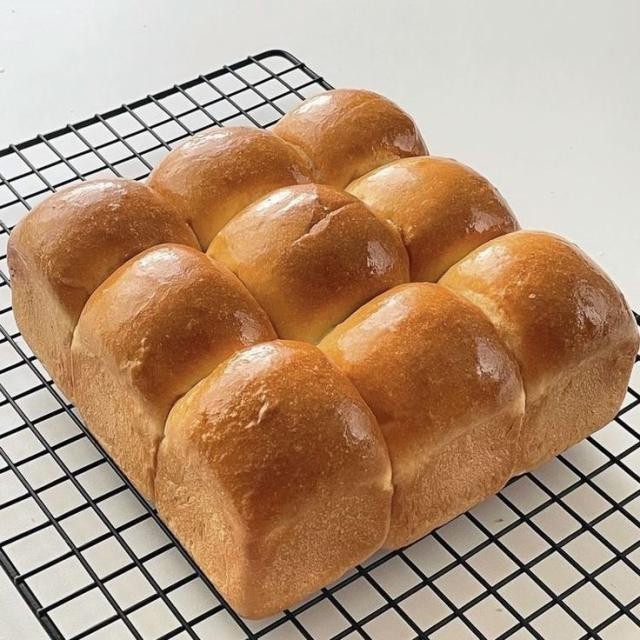bread: (9, 90, 639, 617), (156, 340, 392, 617), (320, 283, 524, 547), (72, 245, 274, 499), (440, 232, 639, 472), (8, 179, 197, 399), (208, 185, 408, 342), (347, 157, 519, 281), (148, 127, 311, 249), (273, 89, 427, 188)
